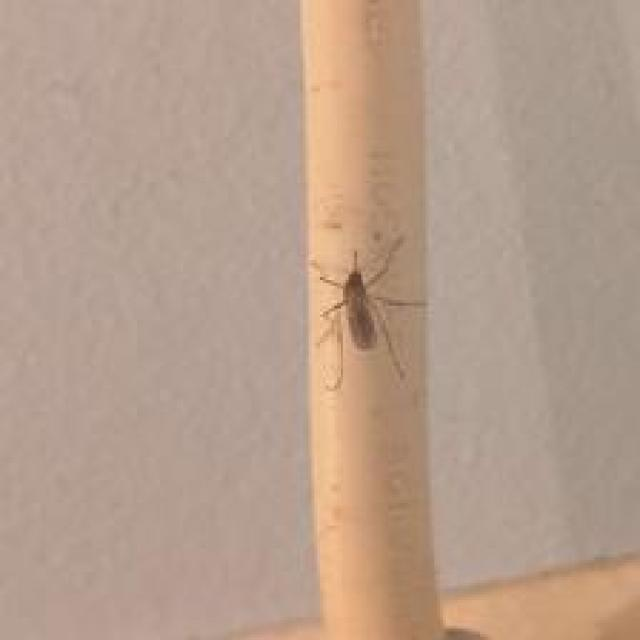Culex: (308, 232, 428, 392)
